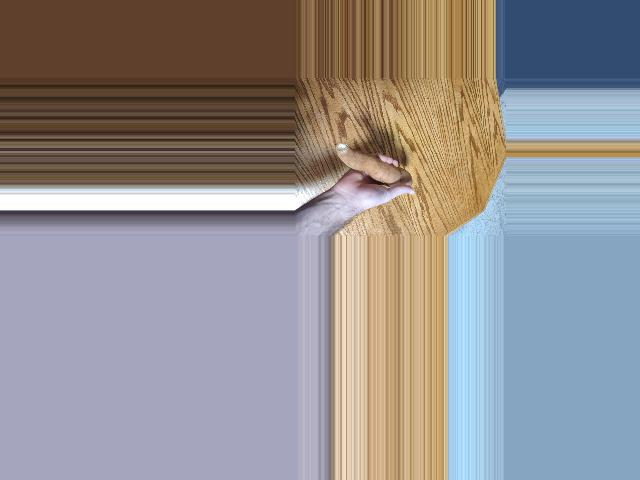sweet_potato: (332, 143, 408, 185)
